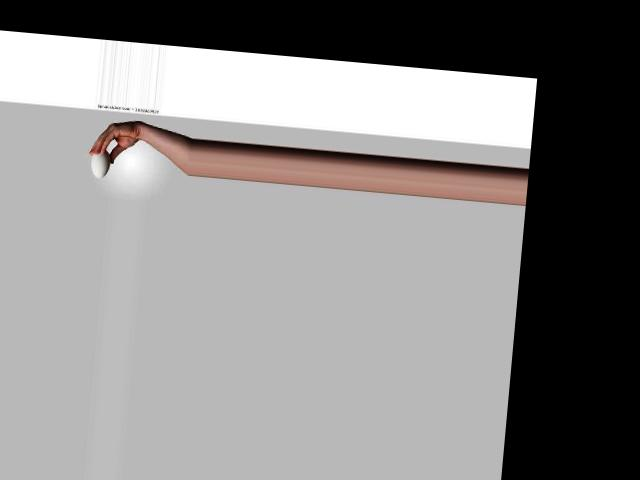egg: (89, 148, 112, 179)
